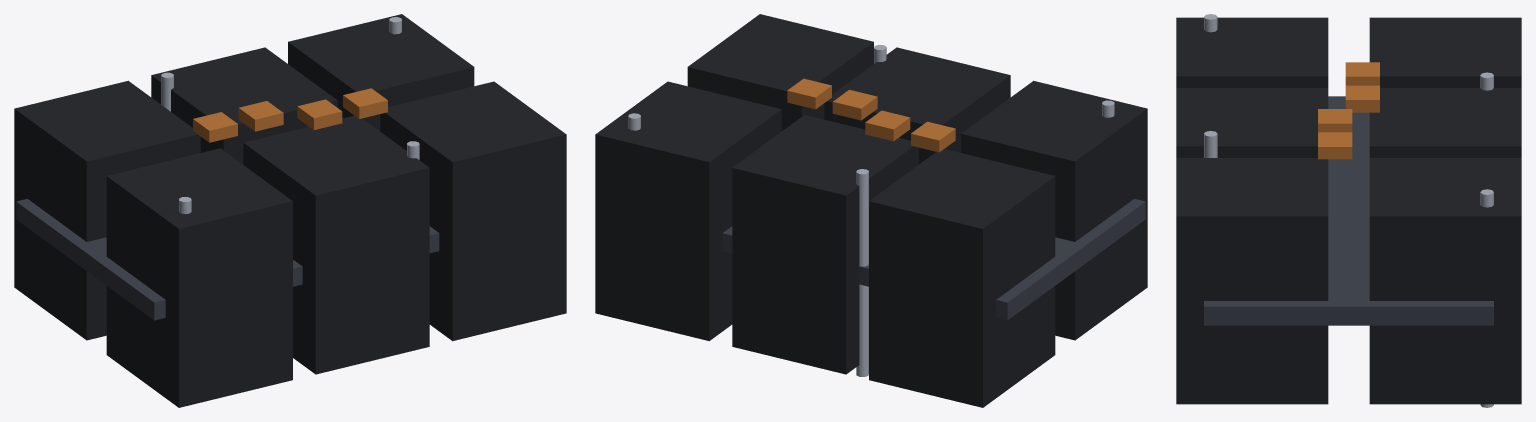
Rendered from kvi-ele-02.glb.
3 views of the same model, side by side, from view 1: azimuth 30°, elevation 25°; view 2: azimuth 150°, elevation 25°; view 3: azimuth 270°, elevation 25° (orthographic). The views are drawn at different scales.
Parts seen in each view (by area): view 1: Banco de 6 baterías 12V 58Ah; view 2: Banco de 6 baterías 12V 58Ah; view 3: Banco de 6 baterías 12V 58Ah.
Part boxes in pixels (box(x1,y1,x2,y2)): Banco de 6 baterías 12V 58Ah: box(14, 14, 566, 407); Banco de 6 baterías 12V 58Ah: box(595, 14, 1147, 407); Banco de 6 baterías 12V 58Ah: box(1176, 14, 1521, 407).
Size of the model in its own units: 1 by 0.4722 by 0.6944.
